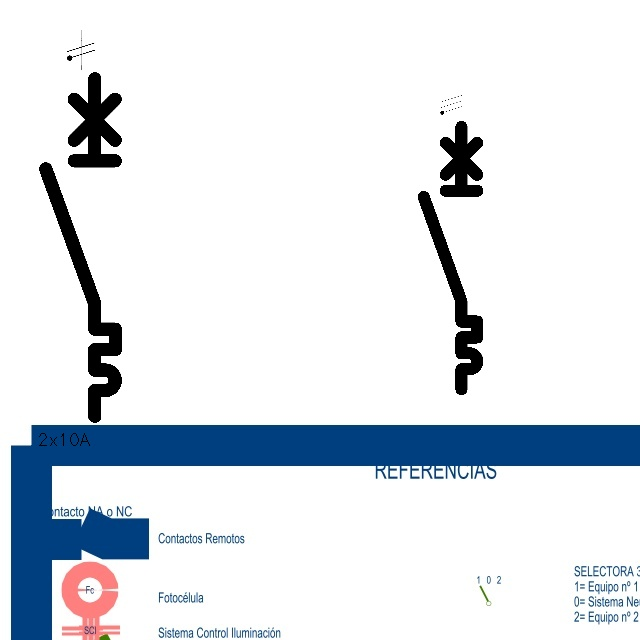interruptor_termomagnetico: (37, 70, 124, 425), (417, 120, 484, 396)
